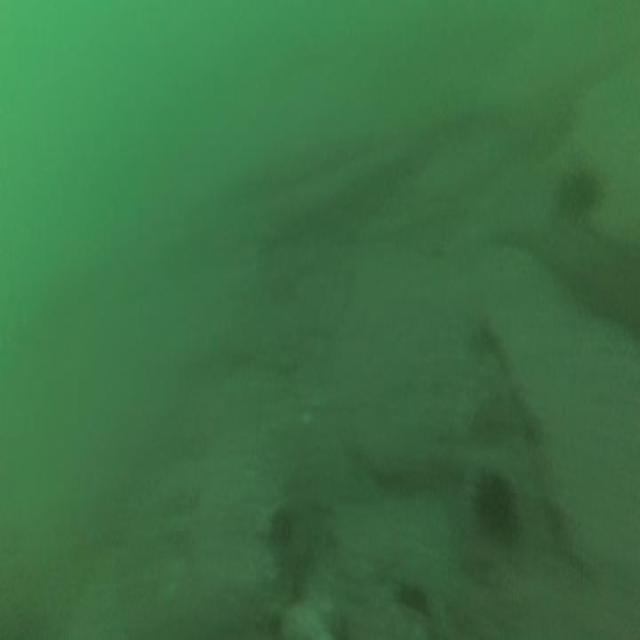echinus: (475, 479, 513, 536), (564, 174, 598, 218)
